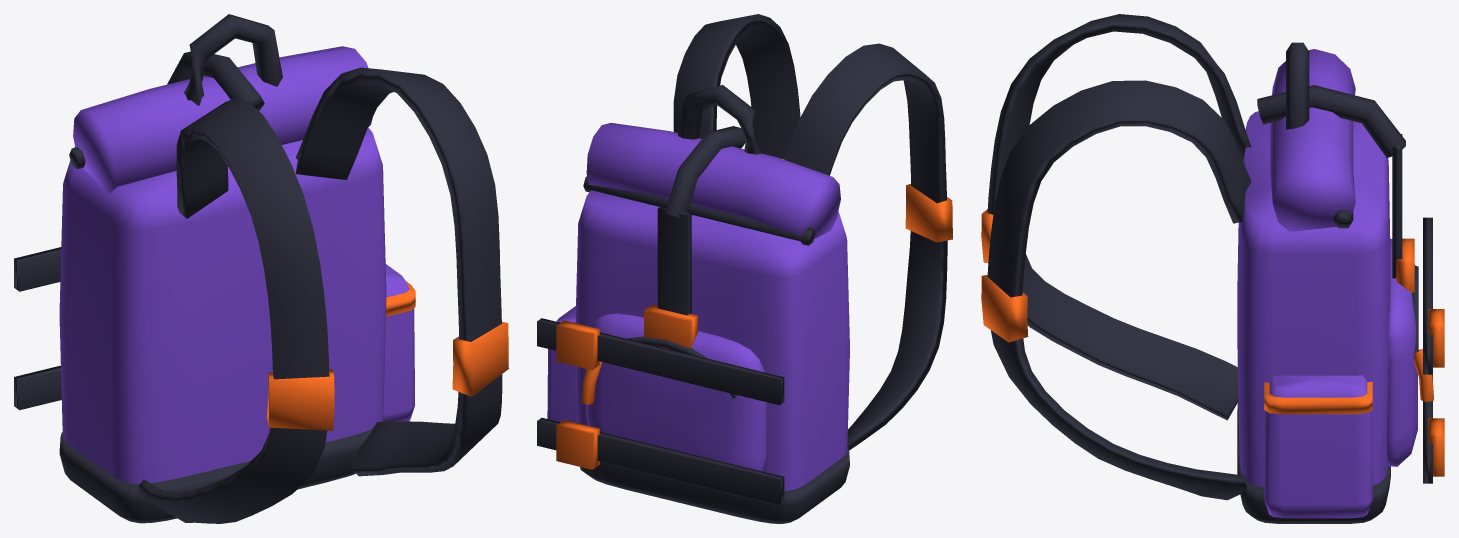
Rendered from back_rolltop.glb.
3 renders of one model, left to right at view 1: azimuth 30°, elevation 25°; view 2: azimuth 150°, elevation 25°; view 3: azimuth 270°, elevation 25°, orthographic. The views are drawn at different scales.
Parts seen in each view (by area): view 1: Body, Strap_R, Strap_L, RollTop, BaseBumper, SideBottle_L, Handle, StrapAdjuster_R, StrapAdjuster_L, RollStrapOverRoll, SkateStrap_1, SkateStrap_2 (+1 smaller); view 2: Body, Strap_R, RollTop, FrontPocket, Strap_L, BaseBumper, SkateStrap_2, SkateStrap_1, RollStrap, RollStrapOverRoll, Handle, SideBottle_L (+7 smaller); view 3: Body, Strap_L, Strap_R, SideBottle_L, RollTop, FrontPocket, RollStrapOverRoll, BaseBumper, StrapAdjuster_L, SideBottleBand_L, Handle, SkateStrap_2 (+6 smaller).
Boxes of the visible parts, bbox=[...] form: Body: bbox=[59, 127, 386, 483]; Strap_R: bbox=[136, 98, 329, 523]; Strap_L: bbox=[296, 67, 502, 476]; RollTop: bbox=[73, 46, 372, 193]; BaseBumper: bbox=[59, 416, 385, 523]; SideBottle_L: bbox=[383, 264, 414, 421]; Handle: bbox=[184, 14, 282, 105]; StrapAdjuster_R: bbox=[267, 369, 334, 430]; StrapAdjuster_L: bbox=[452, 322, 508, 396]; RollStrapOverRoll: bbox=[167, 51, 264, 110]; SkateStrap_1: bbox=[14, 365, 61, 410]; SkateStrap_2: bbox=[14, 247, 61, 291]; Body: bbox=[575, 190, 849, 490]; Strap_R: bbox=[784, 43, 947, 450]; RollTop: bbox=[586, 123, 840, 238]; FrontPocket: bbox=[586, 313, 767, 471]; Strap_L: bbox=[673, 14, 800, 158]; BaseBumper: bbox=[580, 447, 849, 523]; SkateStrap_2: bbox=[537, 318, 784, 405]; SkateStrap_1: bbox=[537, 417, 784, 504]; RollStrap: bbox=[657, 205, 691, 315]; RollStrapOverRoll: bbox=[665, 126, 745, 217]; Handle: bbox=[678, 85, 761, 154]; SideBottle_L: bbox=[547, 306, 577, 423]; Body: bbox=[1237, 111, 1390, 486]; Strap_L: bbox=[987, 80, 1251, 500]; Strap_R: bbox=[987, 14, 1251, 420]; SideBottle_L: bbox=[1264, 375, 1372, 518]; RollTop: bbox=[1270, 49, 1355, 231]; FrontPocket: bbox=[1387, 239, 1417, 466]; RollStrapOverRoll: bbox=[1257, 85, 1405, 157]; BaseBumper: bbox=[1237, 396, 1390, 523]; StrapAdjuster_L: bbox=[981, 275, 1028, 342]; SideBottleBand_L: bbox=[1264, 381, 1372, 414]; Handle: bbox=[1286, 42, 1309, 129]; SkateStrap_2: bbox=[1423, 217, 1432, 374].
Size of the model in its own units: 0.4065 by 0.5671 by 0.5579.
